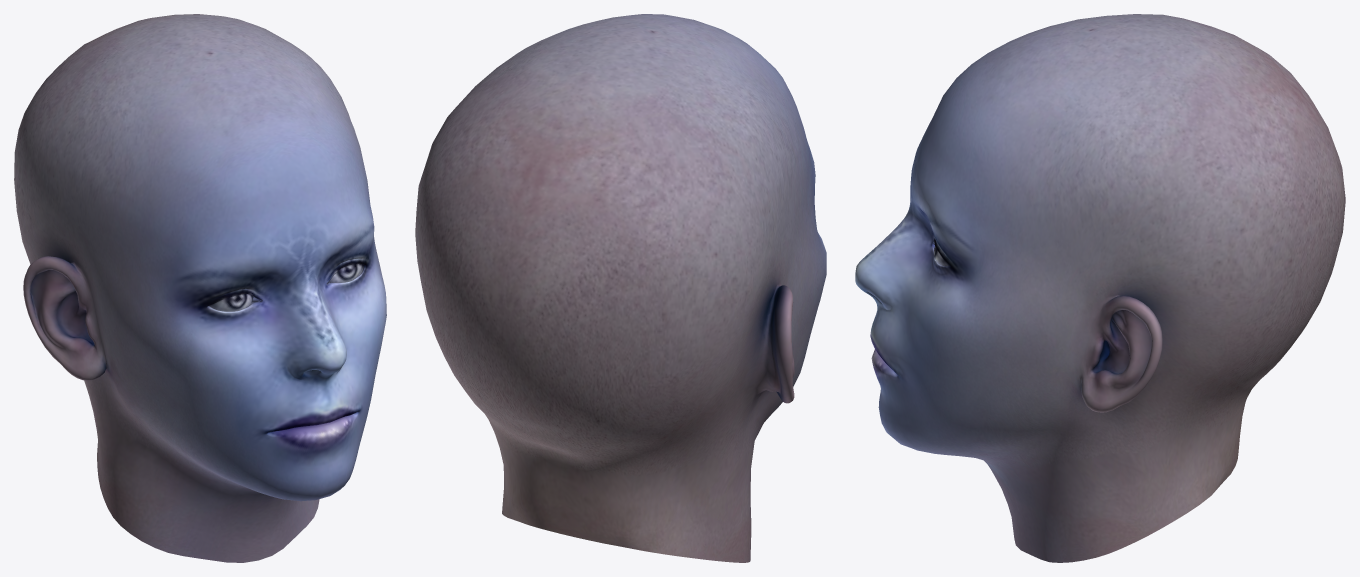
The model's file is Female Purple Alien Face model.fbx.
3 views of the same model, side by side, from view 1: azimuth 30°, elevation 25°; view 2: azimuth 150°, elevation 25°; view 3: azimuth 270°, elevation 25° (orthographic). The views are drawn at different scales.
Parts seen in each view (by area): view 1: Head; view 2: Head; view 3: Head.
Boxes of the visible parts, x1,y1,x2,y2 form: Head: [14, 14, 386, 562]; Head: [415, 14, 826, 562]; Head: [855, 14, 1345, 562].
Bounding box in the file's own units: 0.1913 × 0.2703 × 0.2373.
